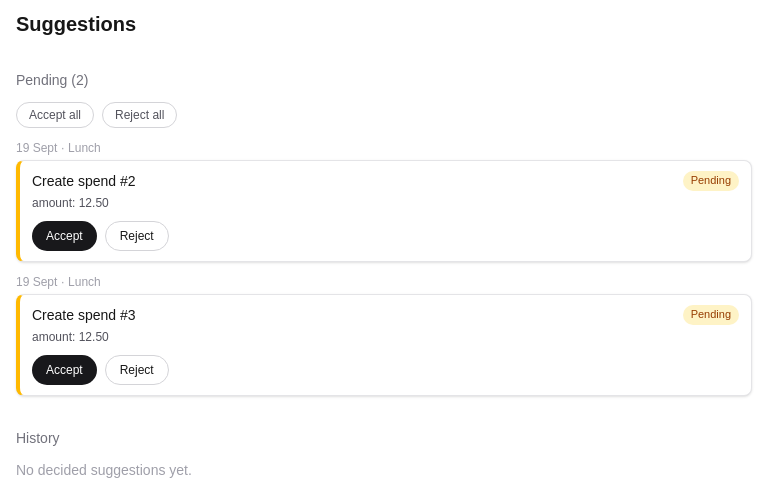
SuggestionsView › asks for a second click, then rejects all and moves them into history
The image size is (769, 495).
Step 1. Click the button "Reject all" → (140, 115), box [102,102,177,128]
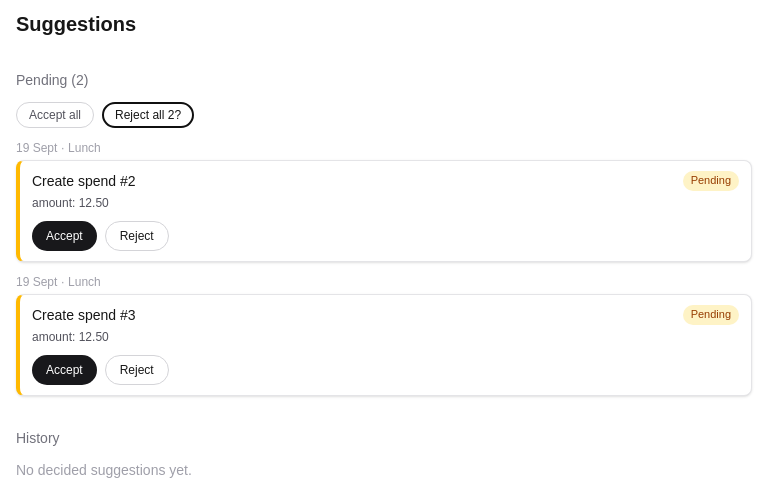
Step 2. Click the button "Reject all 2?" → (148, 115), box [102,102,194,128]
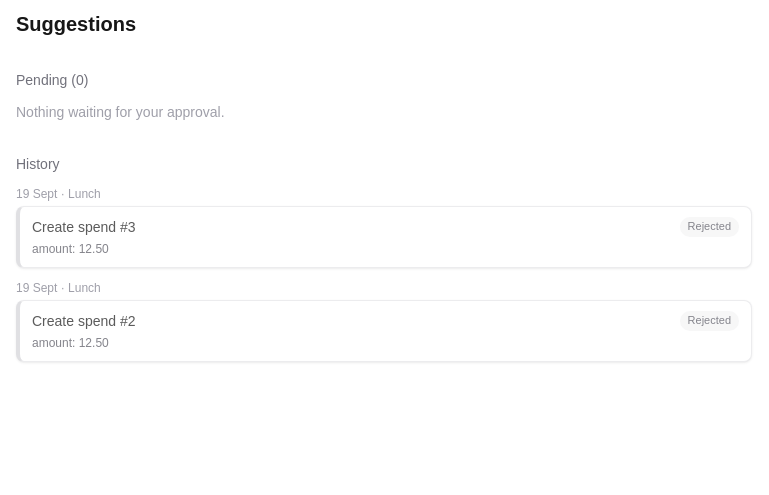
Check: the text "Rejected" is shown 2 times, box [680,217,739,237]; [680,311,739,331]
Check: the text "Nothing waiting" is shown, box [16,104,225,120]
